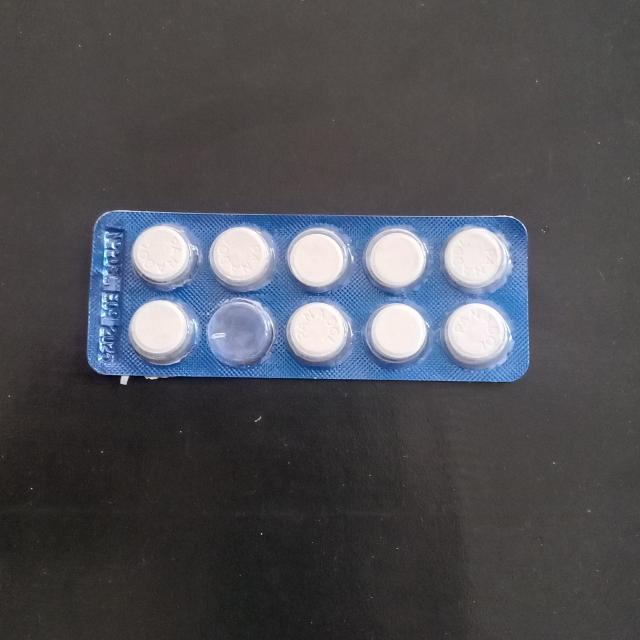defect: (203, 296, 279, 372)
